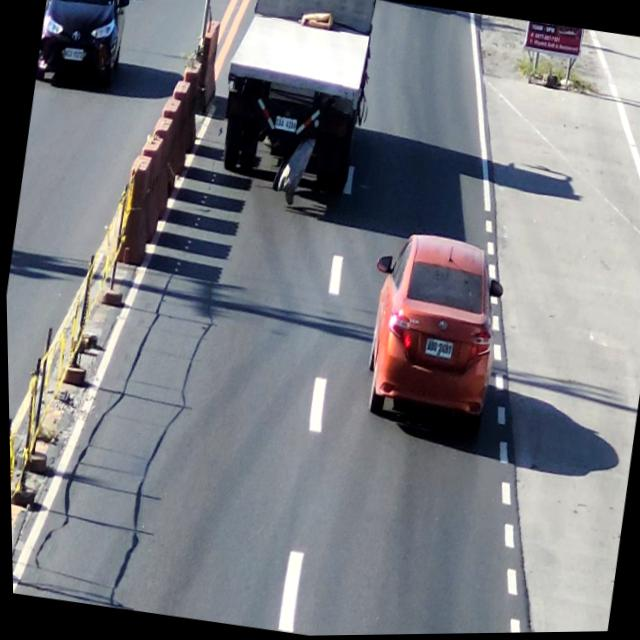Car: (361, 228, 507, 433)
License-Plate: (418, 335, 455, 369), (62, 43, 86, 67), (272, 113, 297, 136)
Truck: (219, 0, 380, 190)
